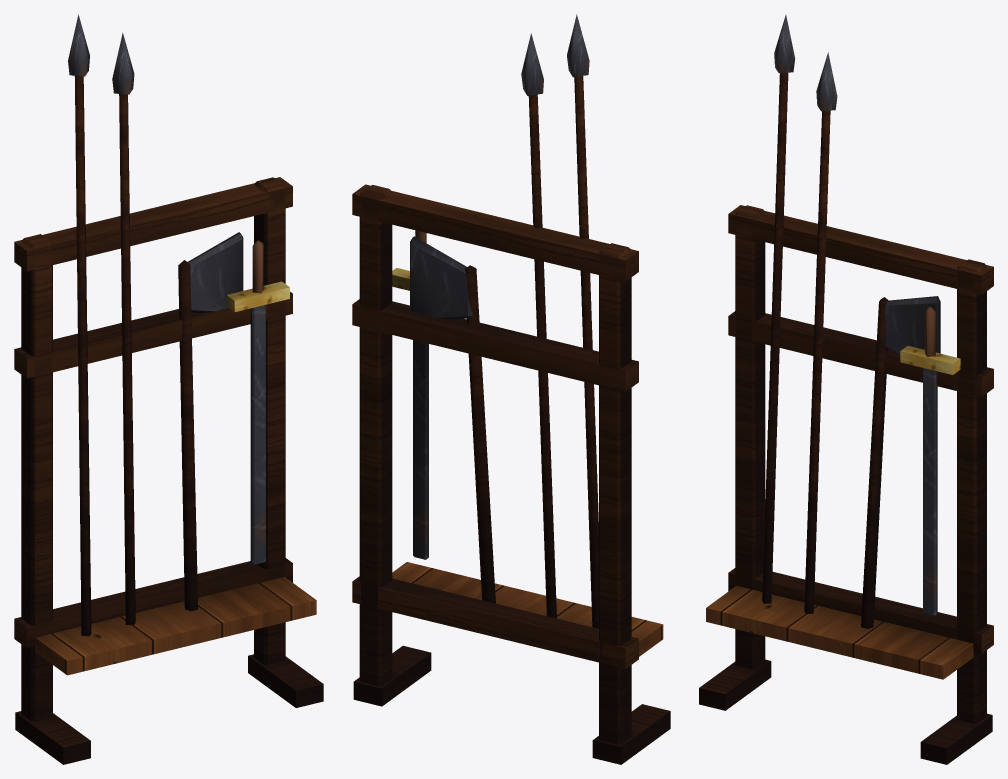
Rendered from interior_weapon_rack.glb.
The picture shows the model from 3 angles, left to right: view 1: azimuth 30°, elevation 25°; view 2: azimuth 150°, elevation 25°; view 3: azimuth 330°, elevation 25°; orthographic projection. The views are drawn at different scales.
Parts seen in each view (by area): view 1: interior_weapon_rack; view 2: interior_weapon_rack; view 3: interior_weapon_rack.
Part boxes in pixels (bbox=[...]): interior_weapon_rack: bbox=[14, 14, 323, 764]; interior_weapon_rack: bbox=[352, 14, 670, 764]; interior_weapon_rack: bbox=[699, 15, 993, 764].
Size of the model in its own units: 0.96 by 2.45 by 0.3.
Materials: 5 (4 with a texture image).
